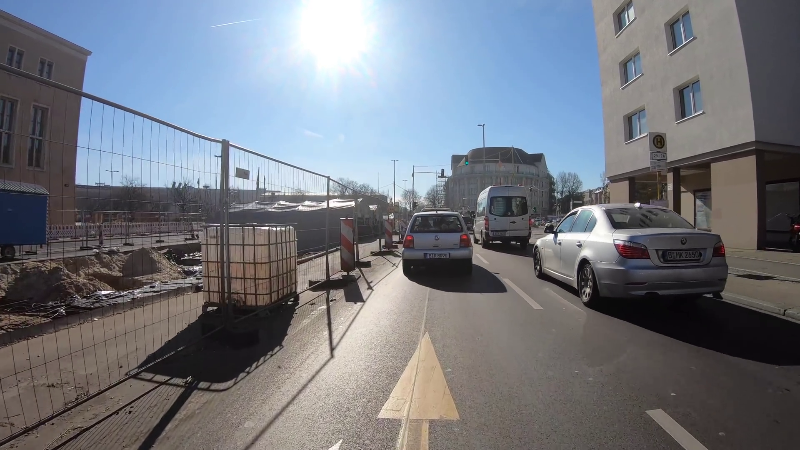Plate: (662, 249, 702, 261), (422, 251, 452, 259)
